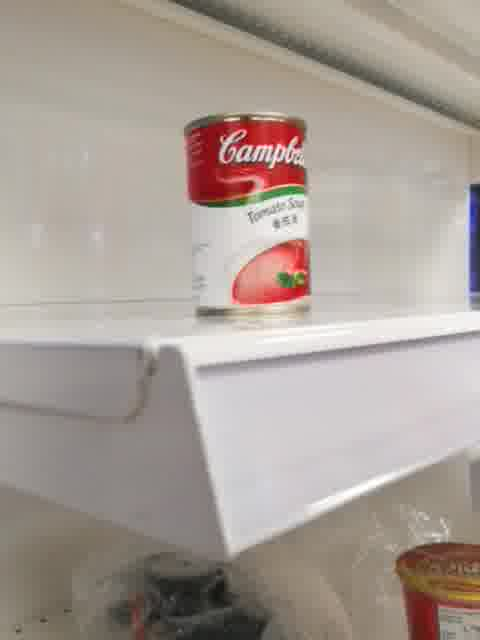tomatosoup: (183, 111, 315, 321)
